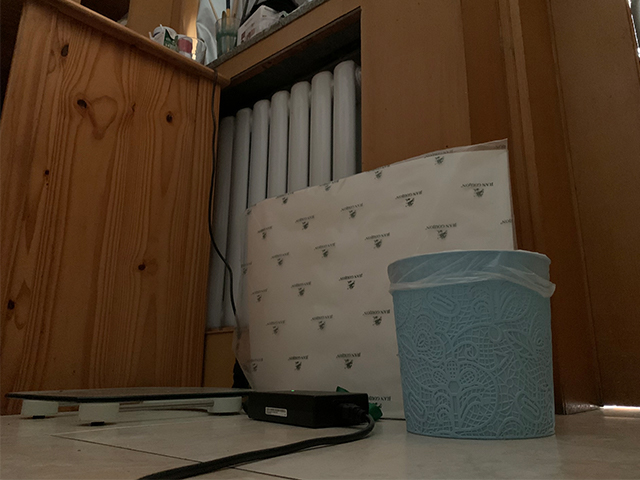cabinet: (1, 1, 231, 416)
trashcan: (387, 249, 557, 440)
wire: (180, 416, 380, 467)
